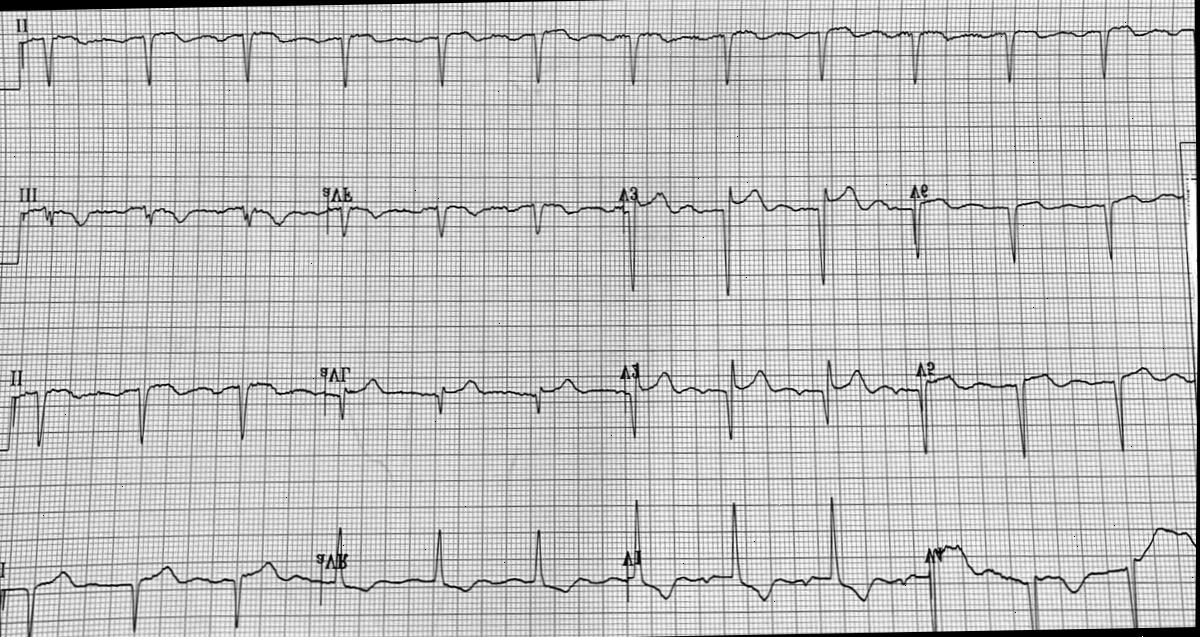Lead_I: (1, 518, 317, 637)
Lead_II: (2, 339, 315, 470)
Lead_III: (9, 167, 323, 271)
Lead_II_ext: (9, 0, 1196, 106)
Lead_V1: (618, 479, 910, 624)
Lead_V2: (620, 328, 908, 467)
Lead_V3: (615, 152, 907, 302)
Lead_V4: (907, 487, 1197, 631)
Lead_V5: (904, 344, 1198, 474)
Lead_V6: (903, 154, 1189, 284)
Lead_aVF: (322, 160, 620, 269)
Lead_aVL: (314, 348, 619, 471)
Lead_aVR: (316, 498, 620, 631)
